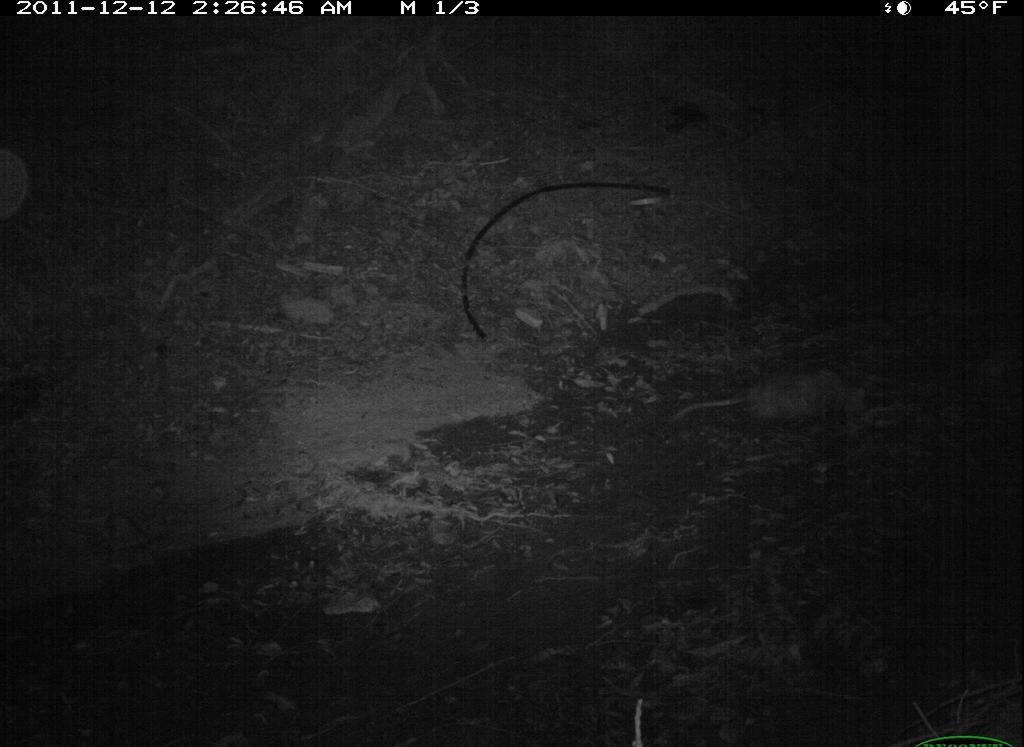opossum: (660, 355, 868, 450)
